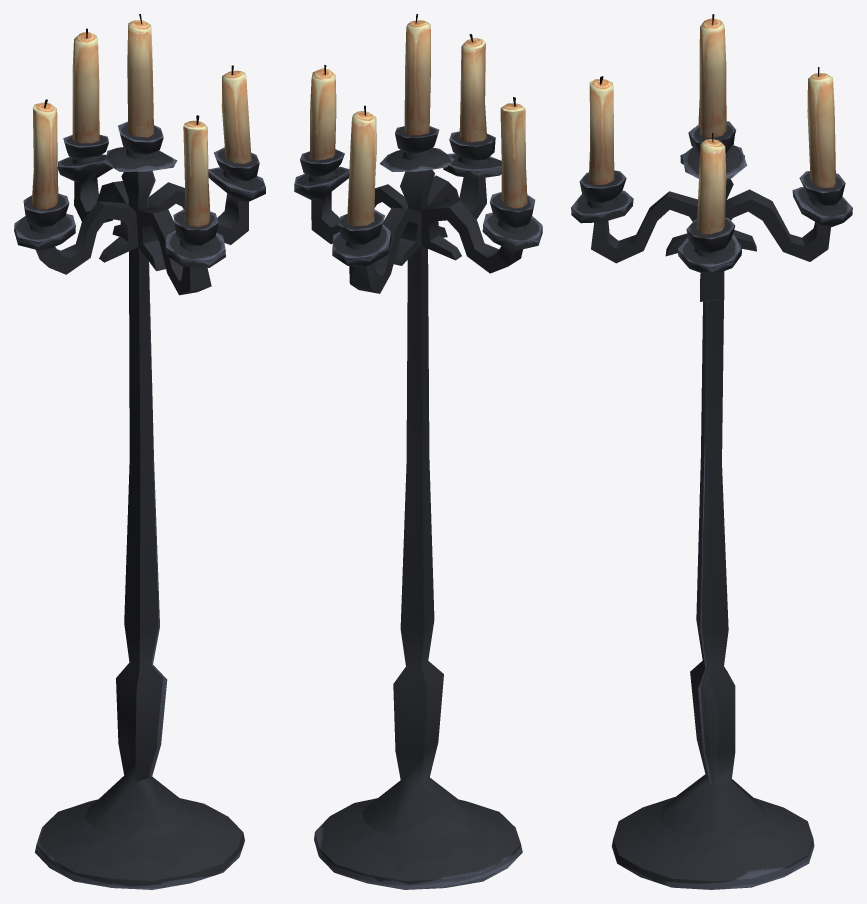
The model's file is SM_PROP_candle_interior_05.fbx.
3 views of the same model, side by side, from view 1: azimuth 30°, elevation 25°; view 2: azimuth 150°, elevation 25°; view 3: azimuth 270°, elevation 25° (orthographic).
Parts seen in each view (by area): view 1: SM_PROP_candle_interior_05; view 2: SM_PROP_candle_interior_05; view 3: SM_PROP_candle_interior_05.
Boxes of the visible parts, x1,y1,x2,y2 form: SM_PROP_candle_interior_05: [14, 14, 265, 889]; SM_PROP_candle_interior_05: [294, 14, 542, 889]; SM_PROP_candle_interior_05: [571, 14, 852, 889].
Bounding box in the file's own units: 48.13 × 157 × 48.13.
